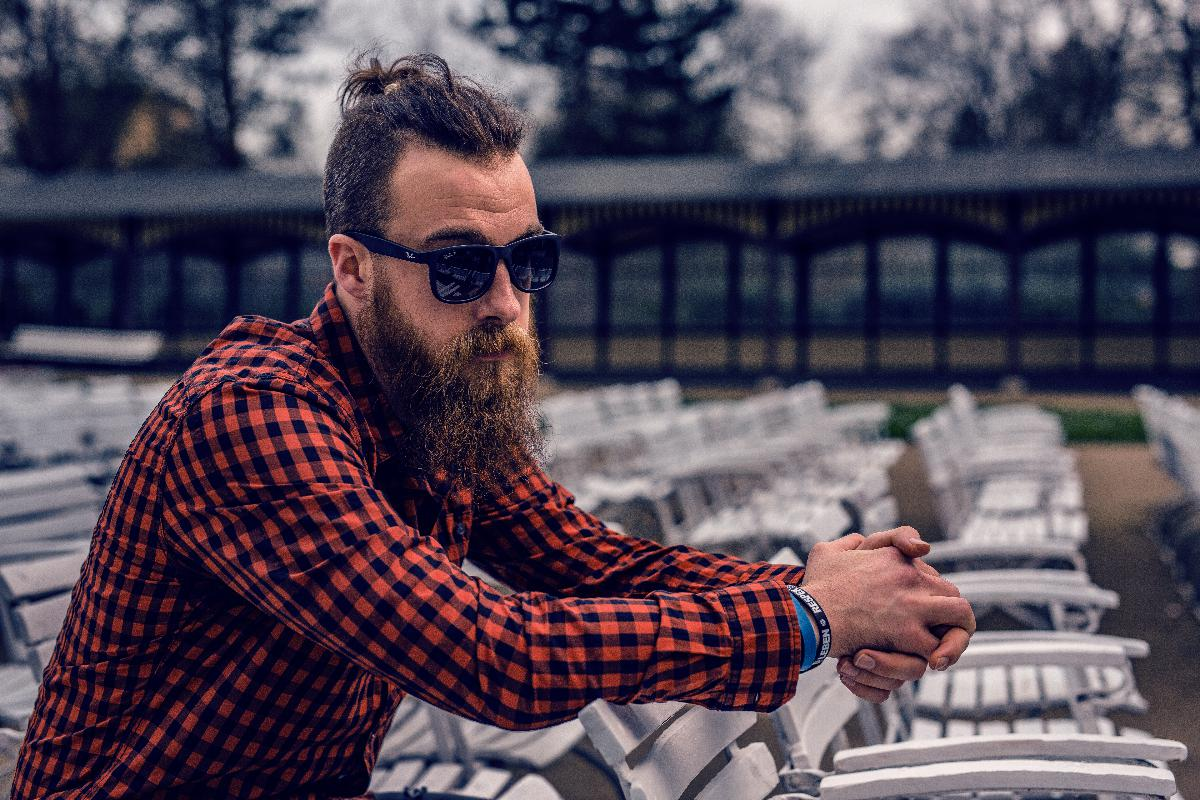Person: (20, 64, 971, 800)
